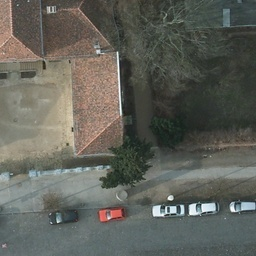car: (48, 207, 82, 225), (151, 200, 184, 217), (189, 201, 220, 216), (99, 206, 125, 223), (228, 199, 255, 214)
